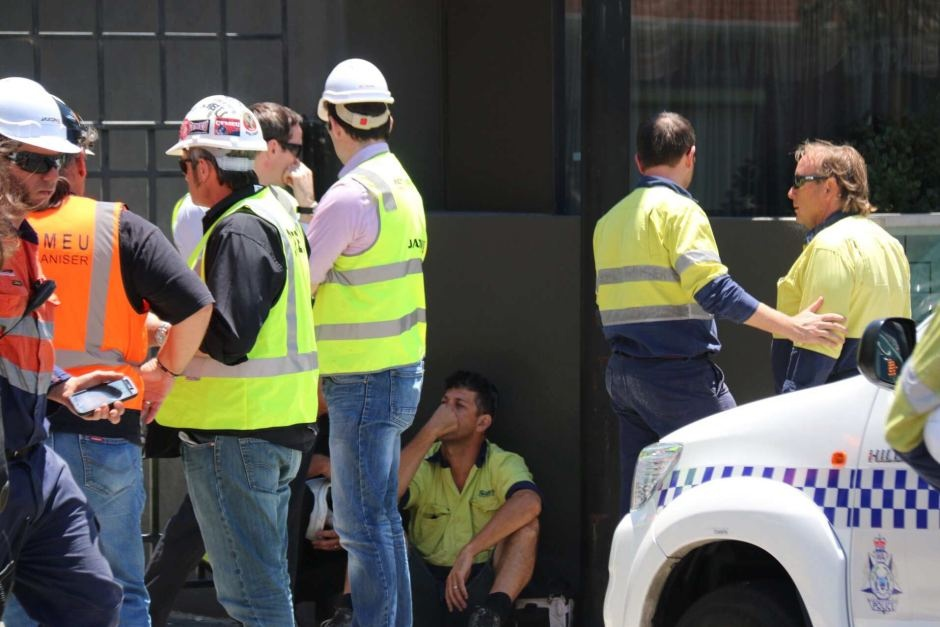none: (785, 139, 868, 228), (634, 110, 696, 191), (246, 100, 303, 186), (435, 371, 498, 446)
white: (175, 91, 263, 202), (1, 75, 63, 207), (319, 54, 393, 154)
